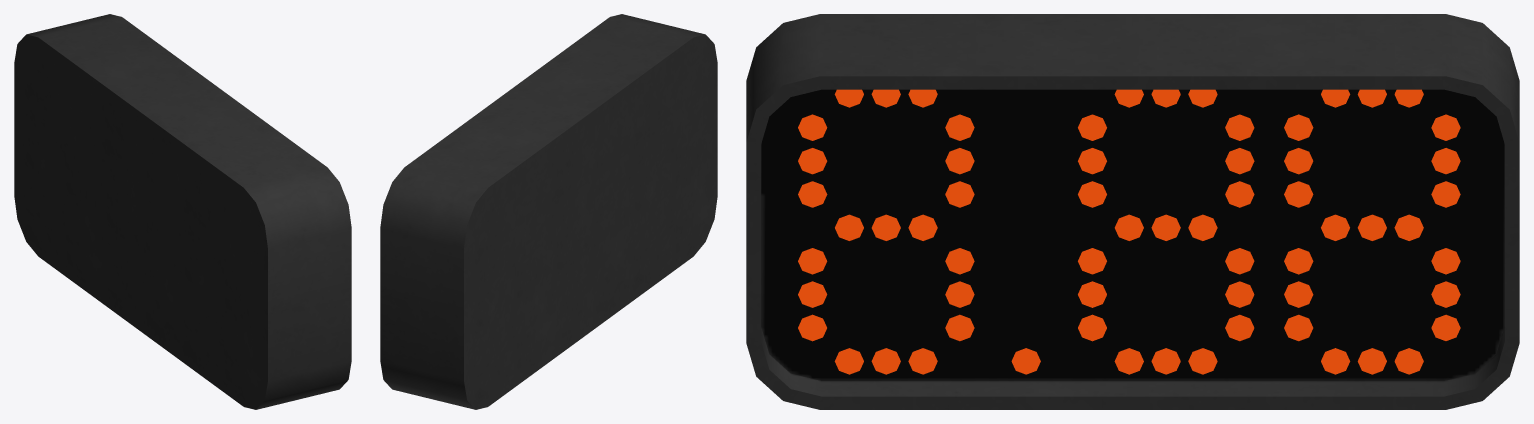
The model's file is platform clock small.fbx.
3 renders of one model, left to right at view 1: azimuth 30°, elevation 25°; view 2: azimuth 150°, elevation 25°; view 3: azimuth 270°, elevation 25°, orthographic. The views are drawn at different scales.
Parts seen in each view (by area): view 1: platform clock small|platform clock big.001|Dupli|; view 2: platform clock small|platform clock big.001|Dupli|; view 3: platform clock small|platform clock big.001|Dupli|, platform clock small|platform clock digit segment 7|Dupli|6. (×3), platform clock small|platform clock digit segment 3|Dupli|1. (×3), platform clock small|platform clock digit segment 5|Dupli|3. (×3), platform clock small|platform clock digit segment 4|Dupli|0. (×3), platform clock small|platform clock digit segment 6|Dupli|4. (×3), platform clock small|platform clock digit segment 2|Dupli|2. (×3), platform clock small|platform clock digit segment 1|Dupli|5. (×3).
Part boxes in pixels (left/top/right/bottom): platform clock small|platform clock big.001|Dupli|: left=14, top=14, right=351, bottom=409; platform clock small|platform clock big.001|Dupli|: left=380, top=14, right=717, bottom=409; platform clock small|platform clock big.001|Dupli|: left=746, top=14, right=1519, bottom=409; platform clock small|platform clock digit segment 7|Dupli|6. (×3): left=834, top=348, right=1423, bottom=374; platform clock small|platform clock digit segment 3|Dupli|1. (×3): left=945, top=114, right=1460, bottom=207; platform clock small|platform clock digit segment 5|Dupli|3. (×3): left=798, top=248, right=1313, bottom=341; platform clock small|platform clock digit segment 4|Dupli|0. (×3): left=835, top=214, right=1423, bottom=240; platform clock small|platform clock digit segment 6|Dupli|4. (×3): left=945, top=248, right=1460, bottom=341; platform clock small|platform clock digit segment 2|Dupli|2. (×3): left=798, top=114, right=1313, bottom=207; platform clock small|platform clock digit segment 1|Dupli|5. (×3): left=834, top=89, right=1423, bottom=107.
Size of the model in its own units: 20 by 50 by 105.
